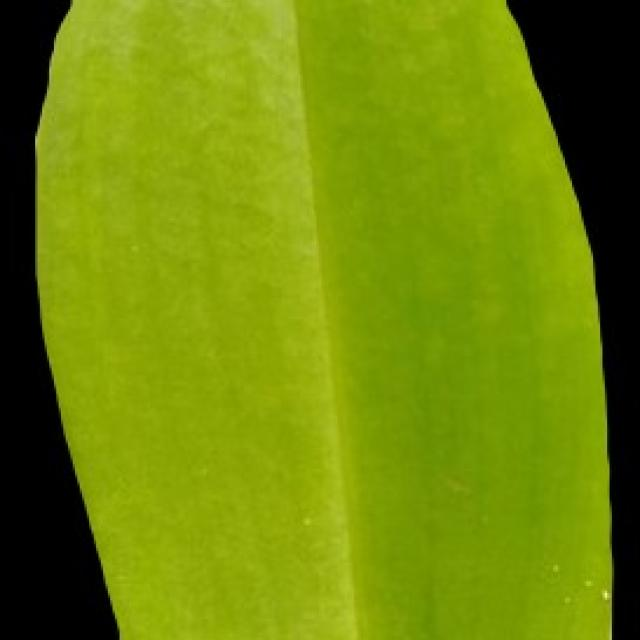mite: (525, 542, 621, 631), (542, 556, 614, 610), (556, 577, 612, 607), (593, 581, 614, 607), (556, 586, 577, 610), (544, 556, 563, 579), (577, 572, 595, 591), (560, 591, 574, 605), (598, 586, 610, 602), (549, 558, 560, 574), (581, 577, 593, 588)
spots: (30, 0, 617, 638)
